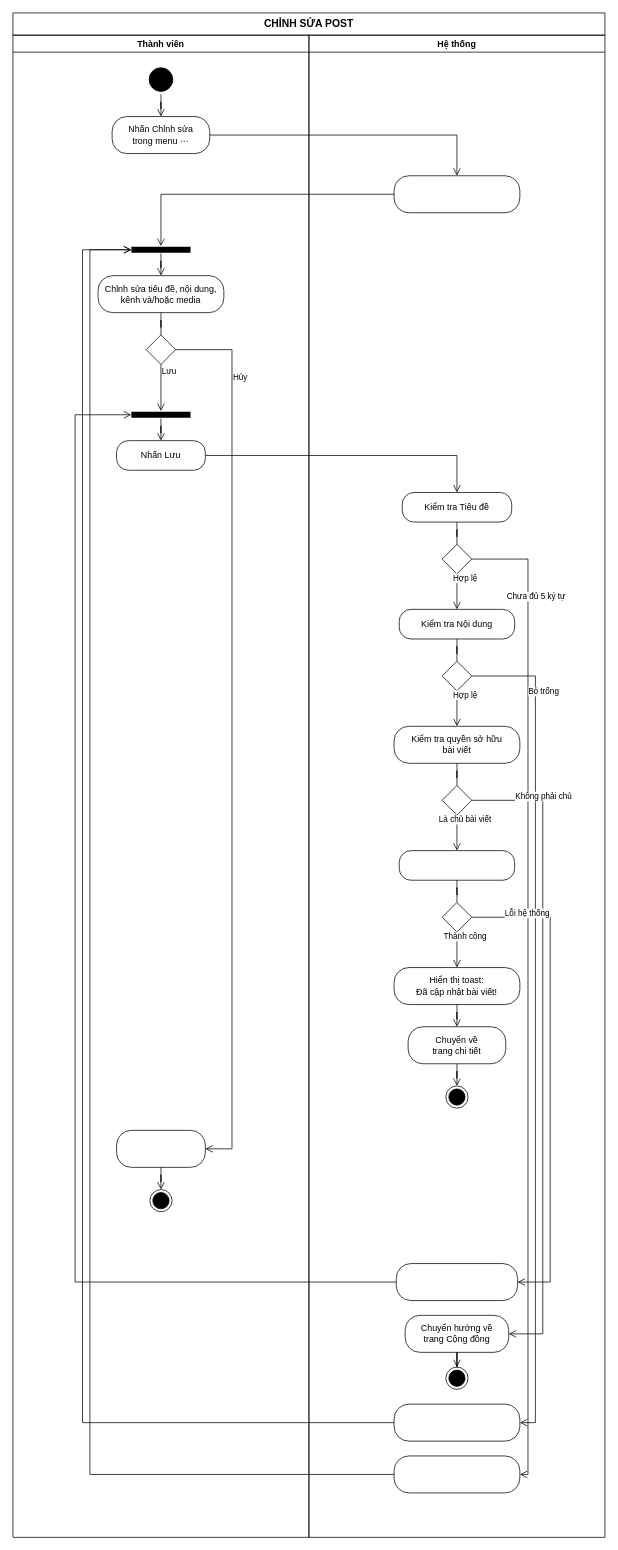
This 618x1550 diagram has some shape labels left out. The shapes that lost their labels are listed below. From the top down, each one's centre as x and y in pixels, then its label:
At pixel 456 194: "Mở màn hình Chỉnh sửa bài viết (dữ liệu có sẵn)".
At pixel 456 865: "Cập nhật bài viết".
At pixel 160 1148: "Nhấn Hủy/ quay lại".
At pixel 457 1282: "Hiển thị thông báo lỗi trong form".
At pixel 456 1422: "Hiển thị lỗi tại trường: Nội dung đang trống".
At pixel 456 1474: "Hiển thị lỗi tại trường: Tiêu đề chưa đủ 5 ký tự".
